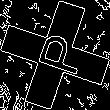P_W: (25, 29, 85, 81)
